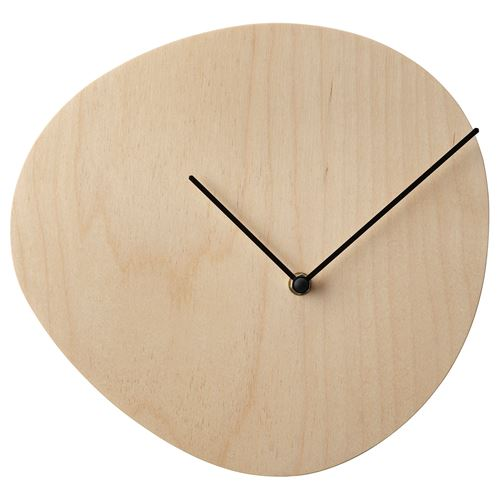clock: (104, 24, 487, 475)
